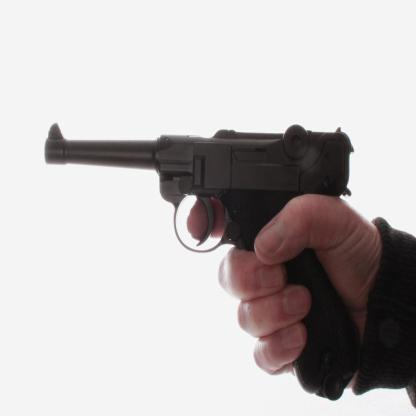Handgun: (44, 122, 360, 401)
